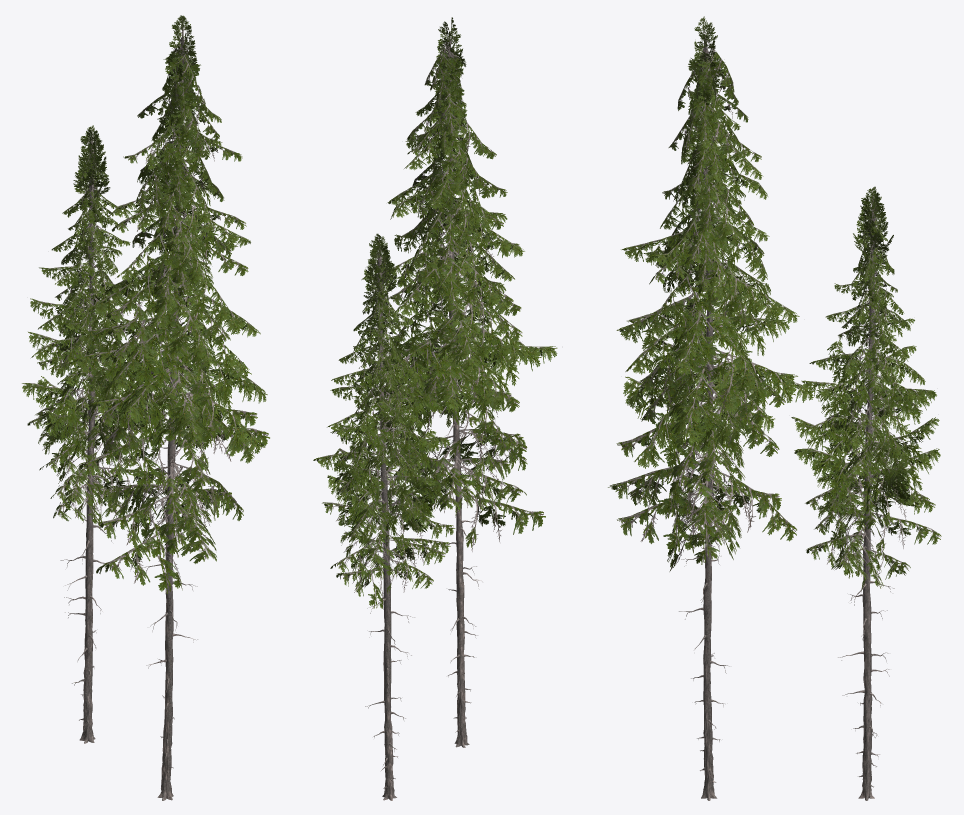
The model's file is pine_trees.glb.
3 views of the same model, side by side, from view 1: azimuth 30°, elevation 25°; view 2: azimuth 150°, elevation 25°; view 3: azimuth 270°, elevation 25° (orthographic). The views are drawn at different scales.
Visible parts, largest first — view 1: Leaves.007, LeavesVar.007, Leaves.008, LeavesVar.008, DouglasFir_Var04.001, DouglasFir_Var05.001; view 2: Leaves.007, LeavesVar.007, Leaves.008, LeavesVar.008, DouglasFir_Var05.001, DouglasFir_Var04.001; view 3: Leaves.007, LeavesVar.007, Leaves.008, LeavesVar.008, DouglasFir_Var04.001, DouglasFir_Var05.001.
Part boxes in pixels (x1=…): Leaves.007: x1=72, y1=15, x2=267, y2=454; LeavesVar.007: x1=77, y1=38, x2=269, y2=593; Leaves.008: x1=22, y1=125, x2=158, y2=463; LeavesVar.008: x1=27, y1=155, x2=167, y2=530; DouglasFir_Var04.001: x1=60, y1=130, x2=115, y2=743; DouglasFir_Var05.001: x1=142, y1=28, x2=197, y2=800; Leaves.007: x1=363, y1=17, x2=557, y2=427; LeavesVar.007: x1=373, y1=38, x2=545, y2=551; Leaves.008: x1=313, y1=233, x2=453, y2=546; LeavesVar.008: x1=322, y1=260, x2=455, y2=608; DouglasFir_Var05.001: x1=434, y1=30, x2=482, y2=747; DouglasFir_Var04.001: x1=365, y1=239, x2=414, y2=800; Leaves.007: x1=616, y1=16, x2=815, y2=468; LeavesVar.007: x1=608, y1=40, x2=796, y2=571; Leaves.008: x1=791, y1=186, x2=940, y2=528; LeavesVar.008: x1=805, y1=219, x2=941, y2=591; DouglasFir_Var04.001: x1=838, y1=190, x2=894, y2=800; DouglasFir_Var05.001: x1=679, y1=33, x2=733, y2=800.
Bounding box in the file's own units: 9.21 × 35.57 × 14.41.
Materials: 3 (3 with a texture image).
